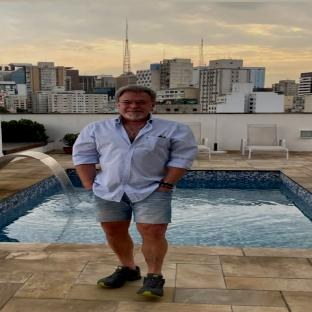Human: (73, 86, 197, 297)
